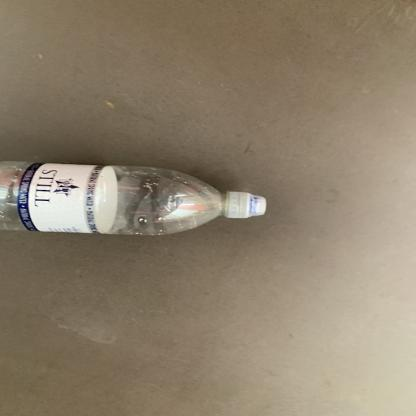trash: (0, 161, 269, 233)
